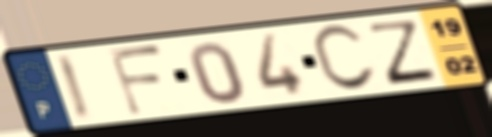0: (185, 38, 250, 106)
4: (255, 31, 309, 98)
C: (308, 22, 380, 94)
F: (104, 43, 169, 118)
I: (51, 51, 96, 124)
Z: (365, 19, 442, 87)
